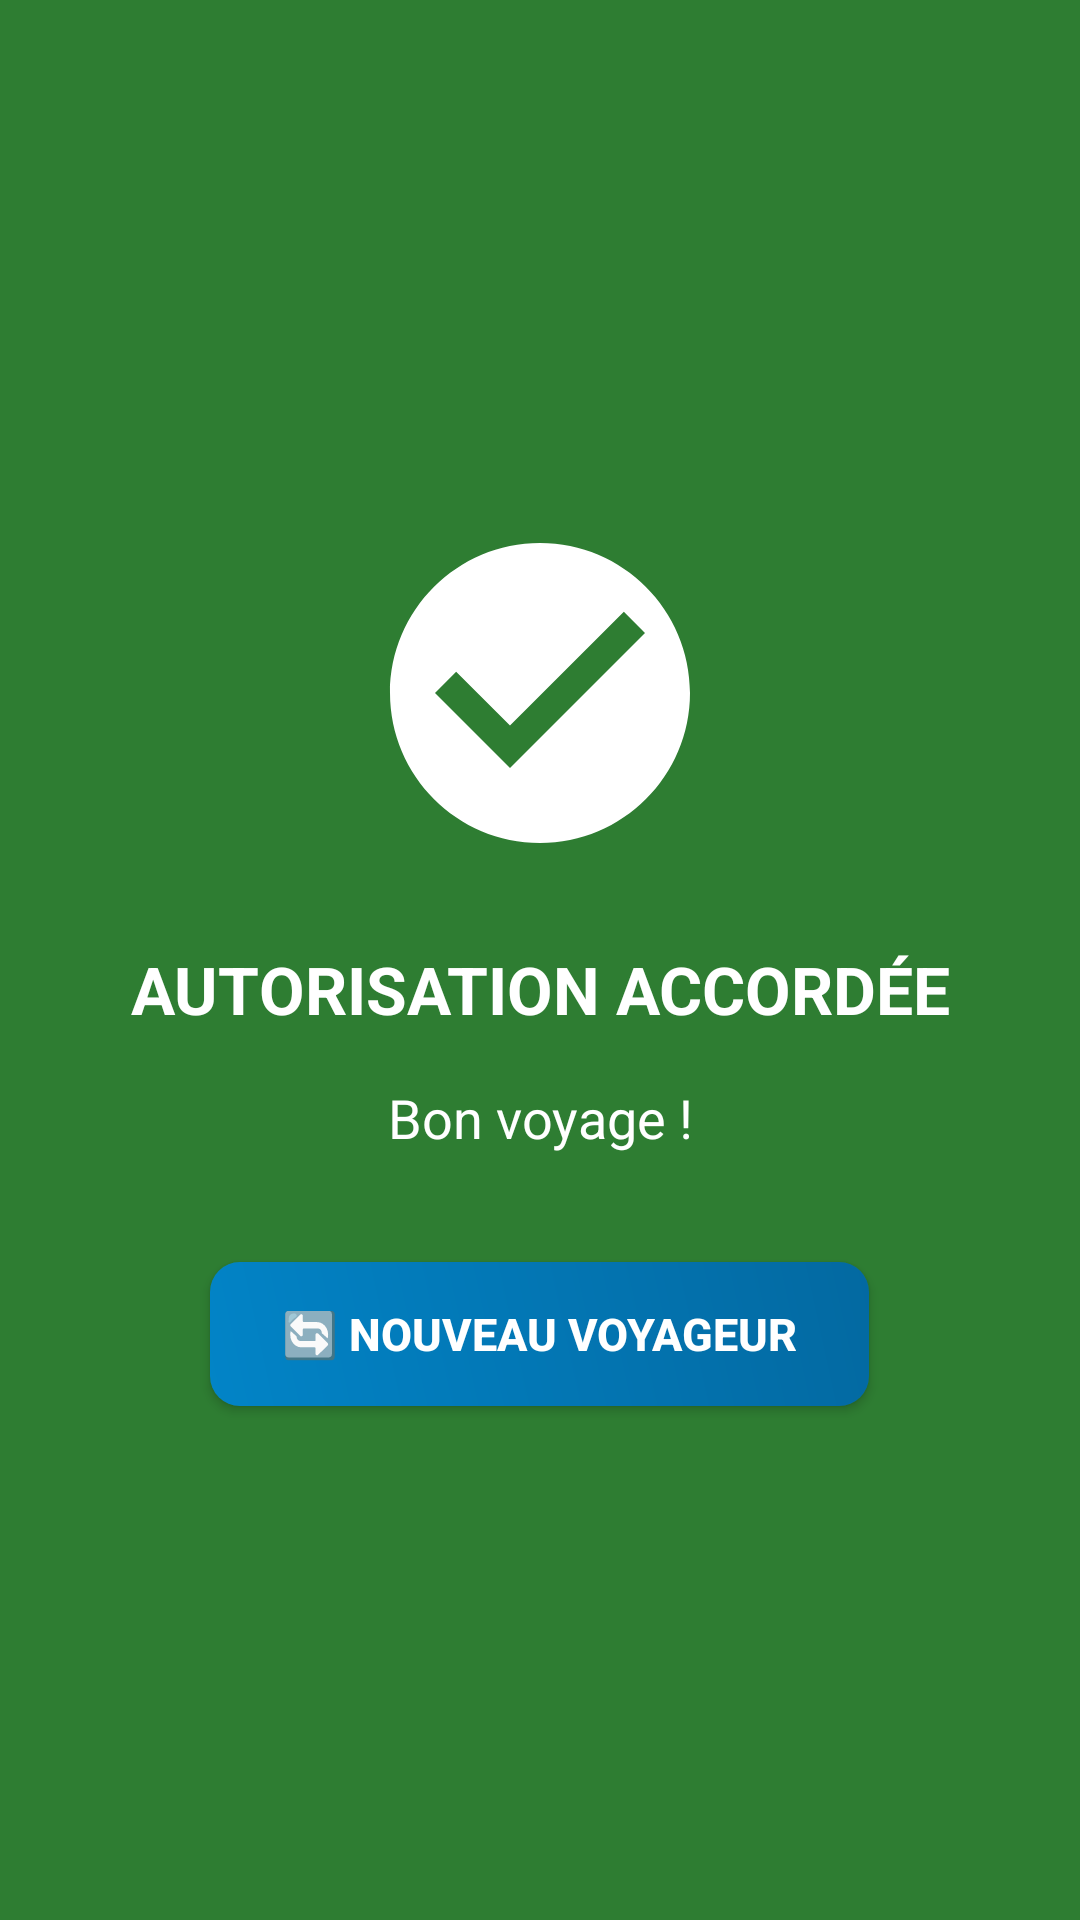

Point at icon controls on the screen. Image size 1080 × 1920, points as [x,y].
Statut du verdict: [540,693]
